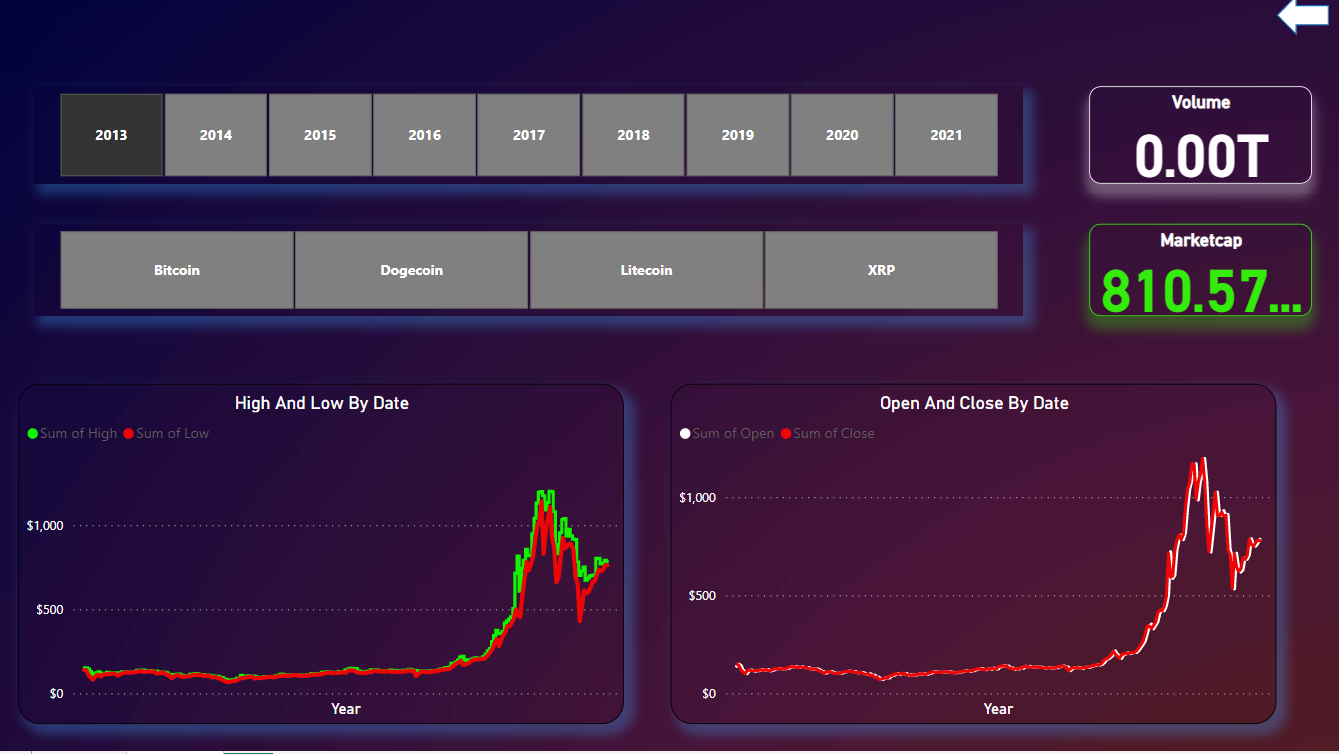

What the dashboard file says about the page in this screenshot:
{"tool":"powerbi","page":{"name":"Page 2","canvas":[1280,720],"ordinal":1},"visuals":[{"type":"slicer","fields":{"Values":["CryptoData.Date.Variation.Date Hierarchy.Year"]},"box":[33.3,86.9,942.5,92.8],"z":0},{"type":"slicer","fields":{"Values":["CryptoData.Name"]},"box":[33.3,217.8,942.5,88.1],"z":1000},{"type":"shape","box":[1217.5,0,50,38.1],"z":2000},{"type":"lineChart","title":"High And Low By Date","fields":{"Y":["Sum(CryptoData.High)","Sum(CryptoData.Low)"],"Category":["CryptoData.Date.Variation.Date Hierarchy.Year","CryptoData.Date.Variation.Date Hierarchy.Quarter","CryptoData.Date.Variation.Date Hierarchy.Month","CryptoData.Date.Variation.Date Hierarchy.Day"]},"box":[19,370.1,577.2,323.7],"z":3000},{"type":"lineChart","title":"Open And Close By Date","fields":{"Y":["Sum(CryptoData.Open)","Sum(CryptoData.Close)"],"Category":["CryptoData.Date.Variation.Date Hierarchy.Year","CryptoData.Date.Variation.Date Hierarchy.Quarter","CryptoData.Date.Variation.Date Hierarchy.Month","CryptoData.Date.Variation.Date Hierarchy.Day"]},"box":[640.3,370.1,577.2,323.7],"z":4000},{"type":"card","title":"Marketcap","fields":{"Values":["Sum(CryptoData.Marketcap)"]},"box":[1038.9,217.8,211.8,88.1],"z":5000},{"type":"card","title":"Volume","fields":{"Values":["Sum(CryptoData.Volume)"]},"box":[1038.9,86.9,211.8,92.8],"z":6000}]}

Visuals, with their boxes in screenshot pixels (x1, y1, x2, y2), scaled from the page's 1280x720 canvas onto the 1339x754 screenshot:
slicer - CryptoData.Date.Variation.Date Hierarchy.Year: 35:91:1021:188
slicer - CryptoData.Name: 35:228:1021:320
shape: 1274:0:1326:40
"High And Low By Date" lineChart: 20:388:624:727
"Open And Close By Date" lineChart: 670:388:1274:727
"Marketcap" card: 1087:228:1308:320
"Volume" card: 1087:91:1308:188
